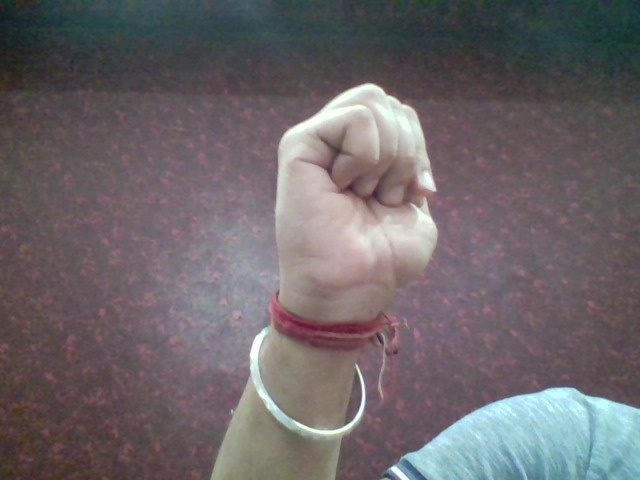m: (262, 72, 465, 311)
